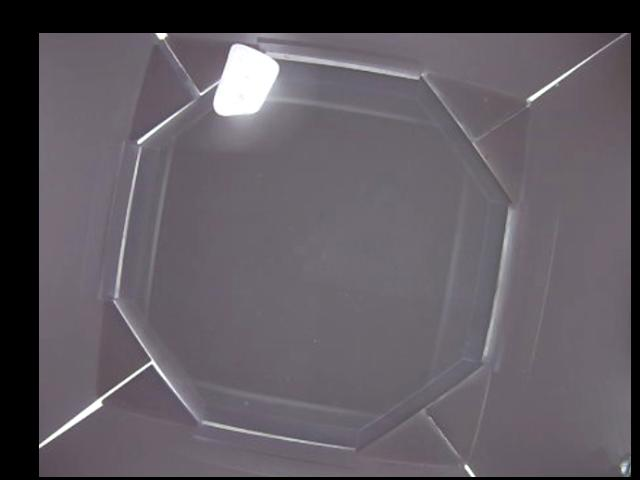Pebble: (216, 45, 278, 115)
